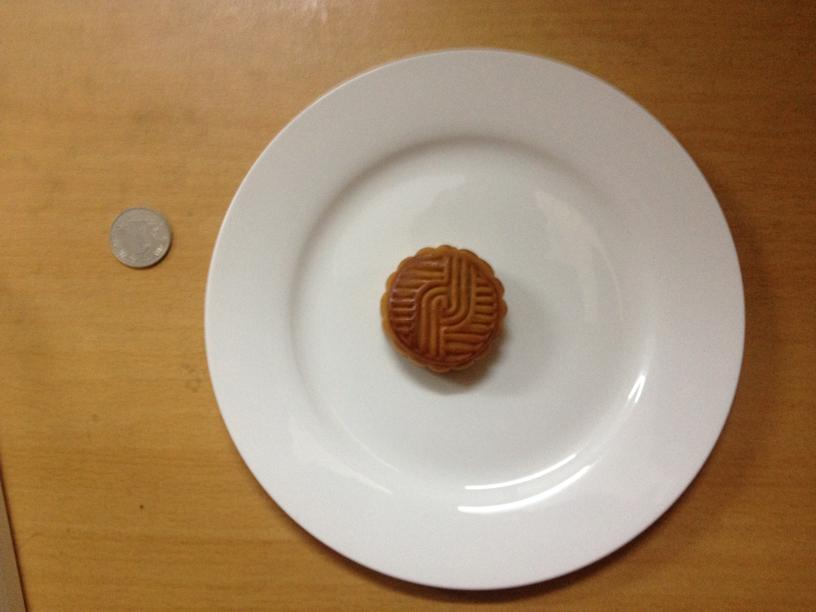coin: (109, 205, 173, 269)
mooncake: (375, 244, 505, 373)
